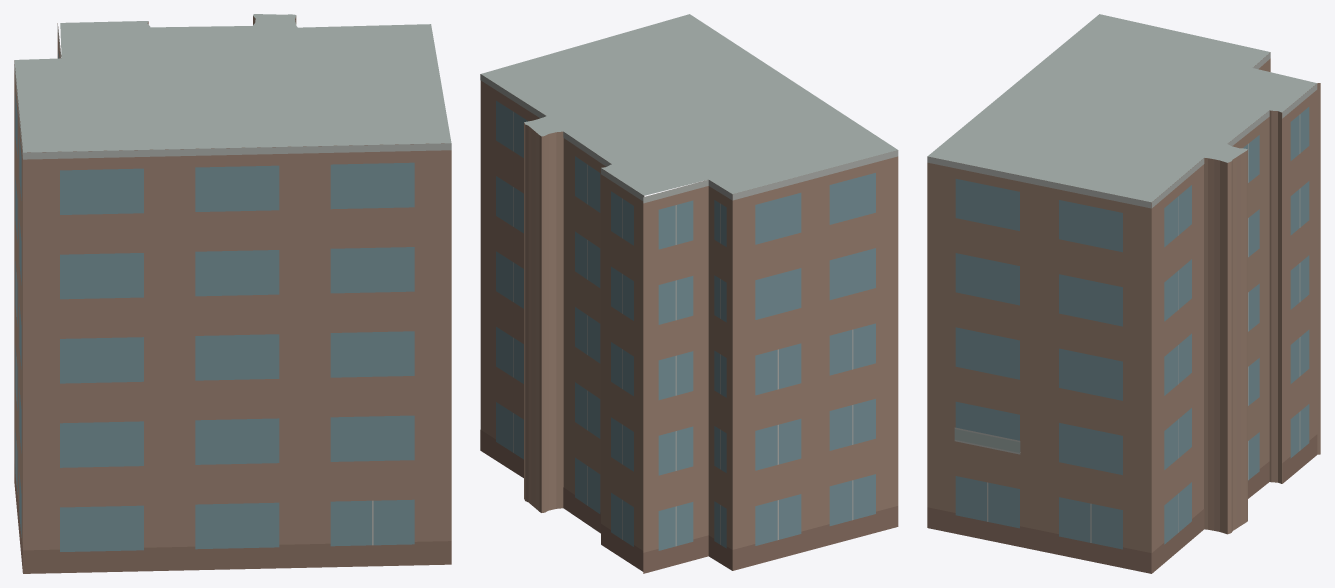
The model's file is survey-upis-32974846.glb.
The picture shows the model from 3 angles, left to right: view 1: azimuth 30°, elevation 25°; view 2: azimuth 150°, elevation 25°; view 3: azimuth 270°, elevation 25°; orthographic projection. The views are drawn at different scales.
Parts seen in each view (by area): view 1: survey-upis-32974846.tmp; view 2: survey-upis-32974846.tmp; view 3: survey-upis-32974846.tmp.
Part boxes in pixels (x1=…): survey-upis-32974846.tmp: x1=14, y1=14, x2=451, y2=573; survey-upis-32974846.tmp: x1=480, y1=14, x2=898, y2=573; survey-upis-32974846.tmp: x1=927, y1=14, x2=1320, y2=573.
Size of the model in its own units: 15.88 by 14.6 by 14.01.
